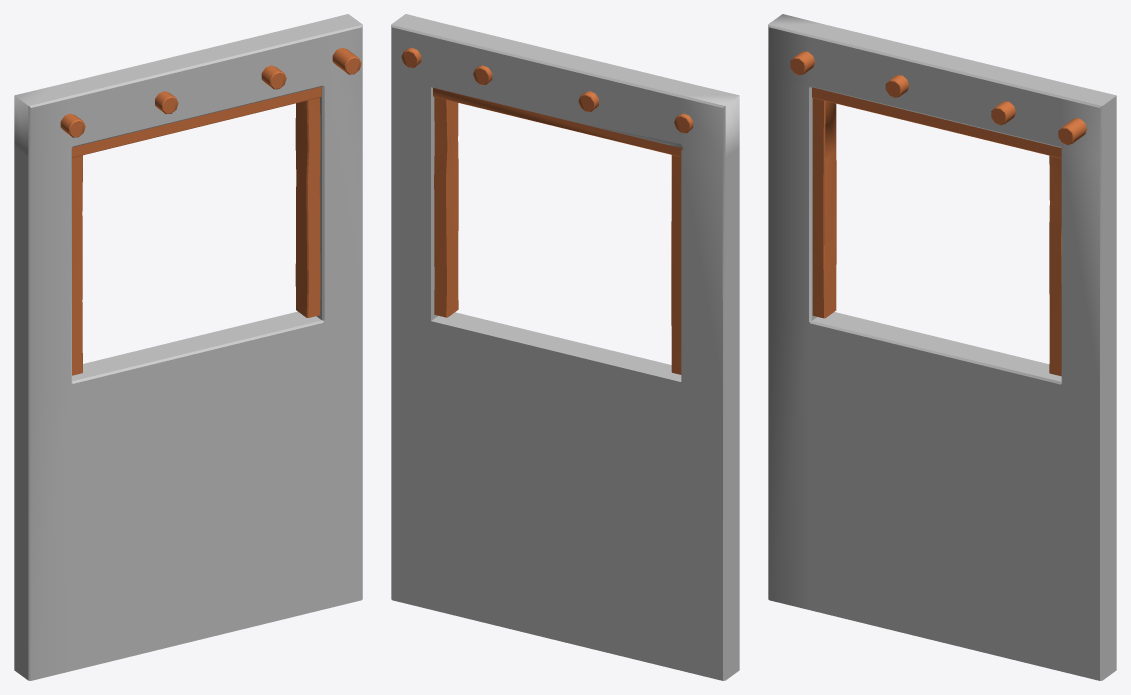
The model's file is WallWindow.fbx.
3 renders of one model, left to right at view 1: azimuth 30°, elevation 25°; view 2: azimuth 150°, elevation 25°; view 3: azimuth 330°, elevation 25°, orthographic.
Visible parts, largest first — view 1: Pared_Base001; view 2: Pared_Base001; view 3: Pared_Base001.
Boxes of the visible parts, left/top/right/bottom form: Pared_Base001: left=14, top=14, right=362, bottom=680; Pared_Base001: left=391, top=14, right=739, bottom=680; Pared_Base001: left=768, top=14, right=1116, bottom=680.
Size of the model in its own units: 174 by 29.99 by 286.
